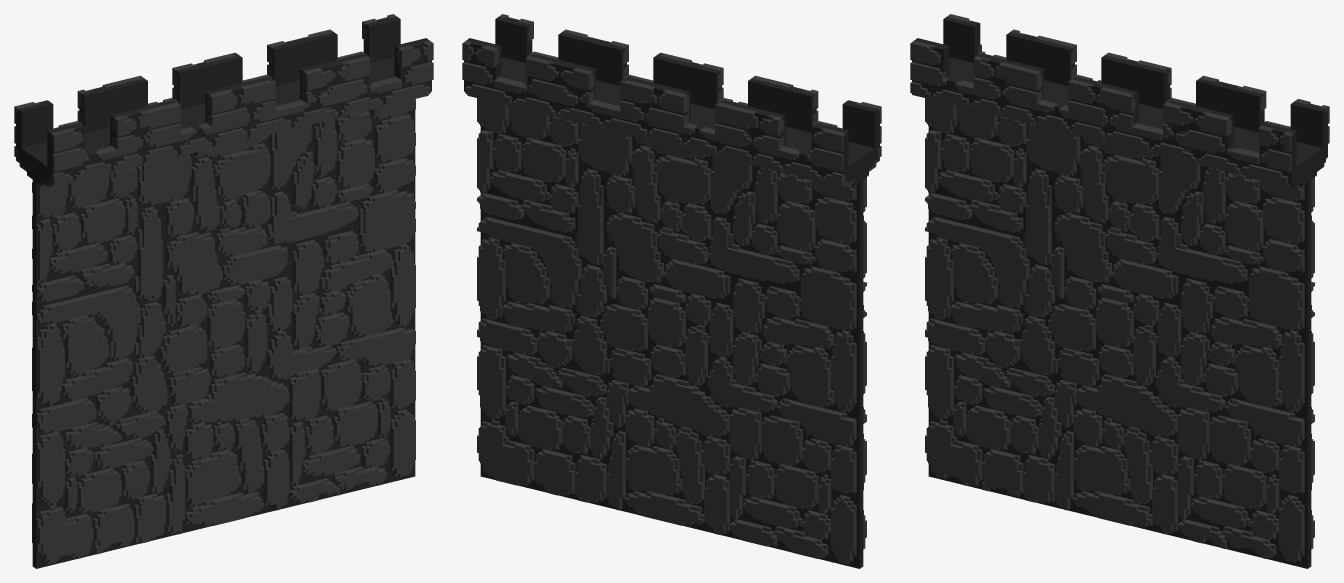
File: wall1.glb
3 renders of one model, left to right at view 1: azimuth 30°, elevation 25°; view 2: azimuth 150°, elevation 25°; view 3: azimuth 330°, elevation 25°, orthographic.
Visible parts, largest first — view 1: Untitled; view 2: Untitled; view 3: Untitled.
Boxes of the visible parts, box(x1,y1,x2,y2) form: Untitled: box(14, 14, 433, 568); Untitled: box(462, 14, 881, 568); Untitled: box(910, 14, 1329, 568).
Size of the model in its own units: 12 by 13.5 by 2.2.
Materials: 1 (1 with a texture image).
